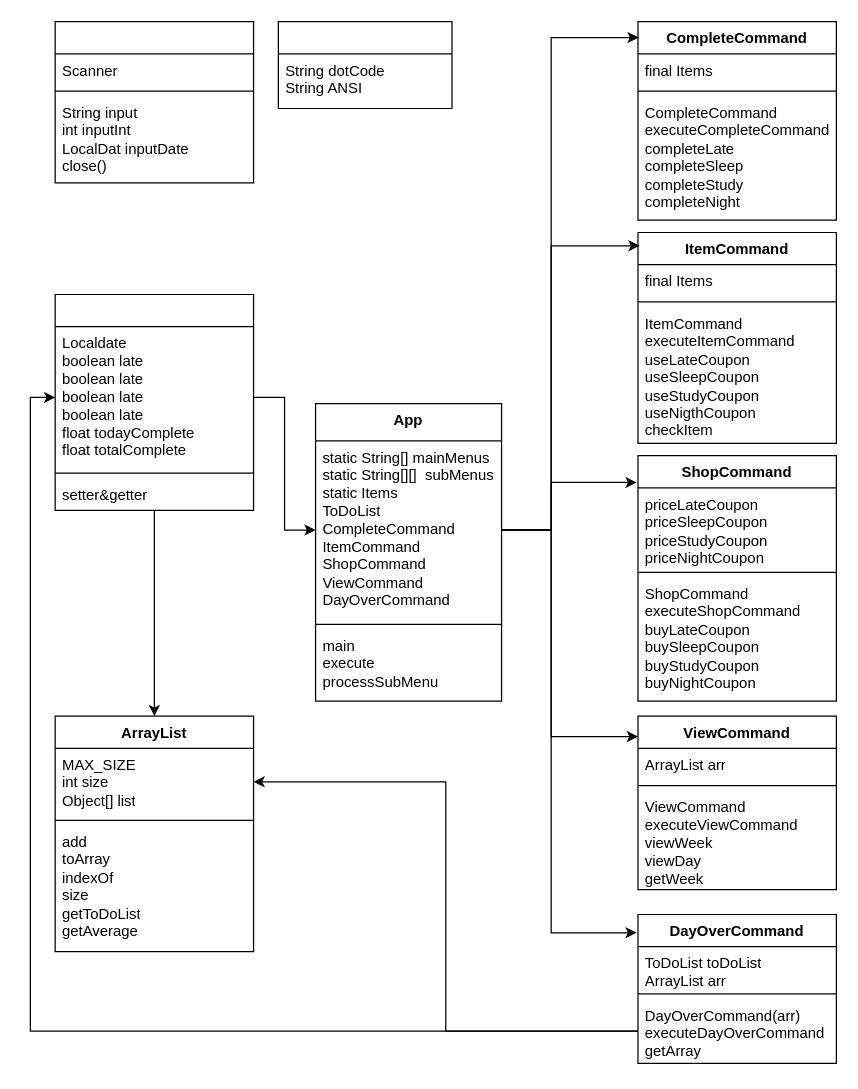
The diagram is 858 pixels wide and 1089 high, and some of its shapes have lost their labels. Each missing label, with the box of its shape:
CSS: (277, 20, 452, 108)
Prompt: (54, 20, 254, 183)
TodoList: (54, 293, 254, 510)
